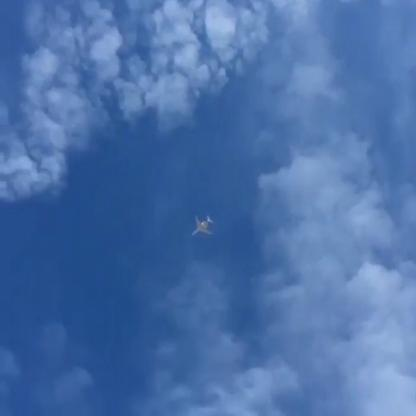CIV_Plane: (192, 214, 214, 236)
